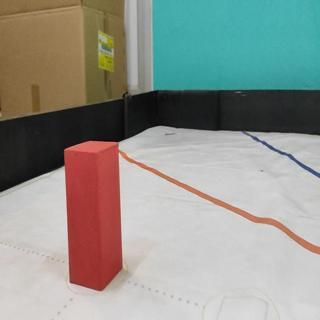redbox: (63, 139, 124, 292)
